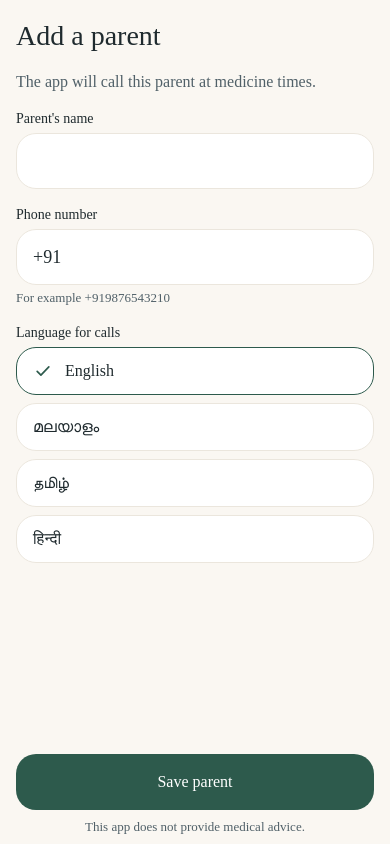
AddParentScreen › rejects an invalid phone number
In the field with test id "add-name": x=195, y=161 x1=16 y1=133 x2=374 y2=189, type "Amma"
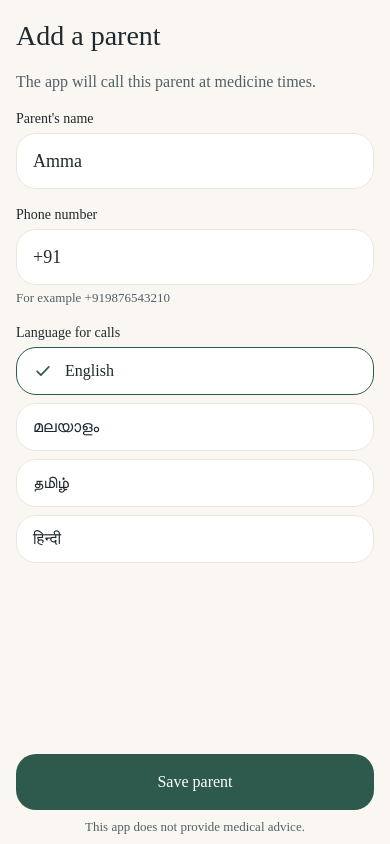
Replace the text in the field with test id "add-phone" with "123": x=195, y=257 x1=16 y1=229 x2=374 y2=285
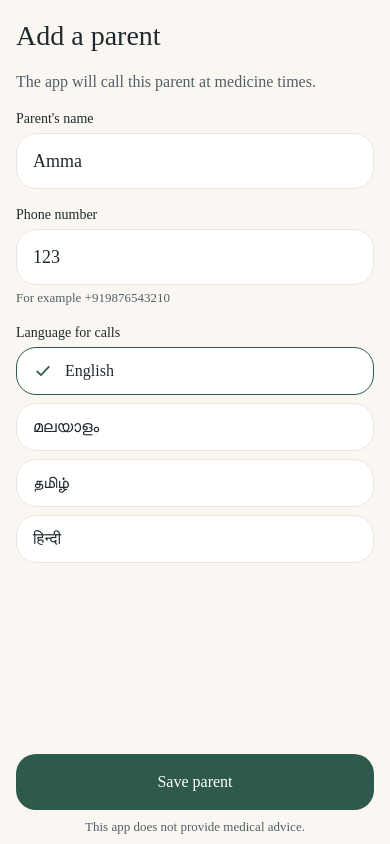
Click the button with test id "add-save": x=195, y=782 x1=16 y1=754 x2=374 y2=810
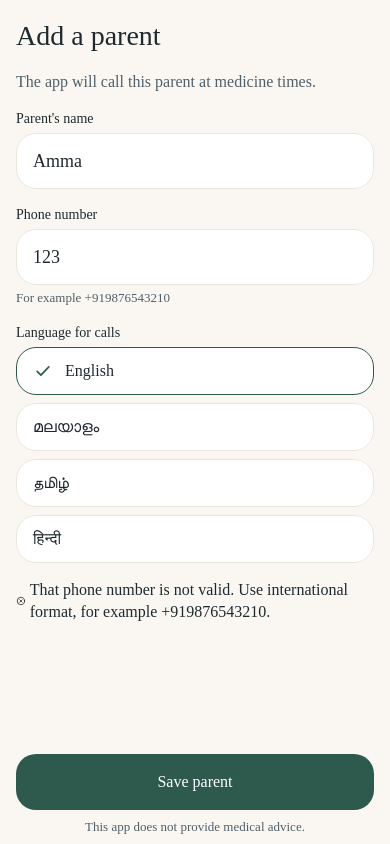
Expected: the text "That phone number is not valid. Use international format, for example +919876543210." is shown, x1=30 y1=581 x2=352 y2=620
